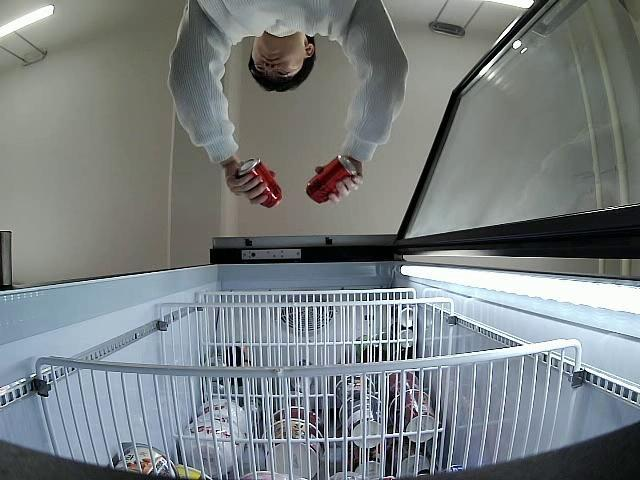11_cocaColaZero: (306, 155, 358, 205), (236, 157, 282, 209)
